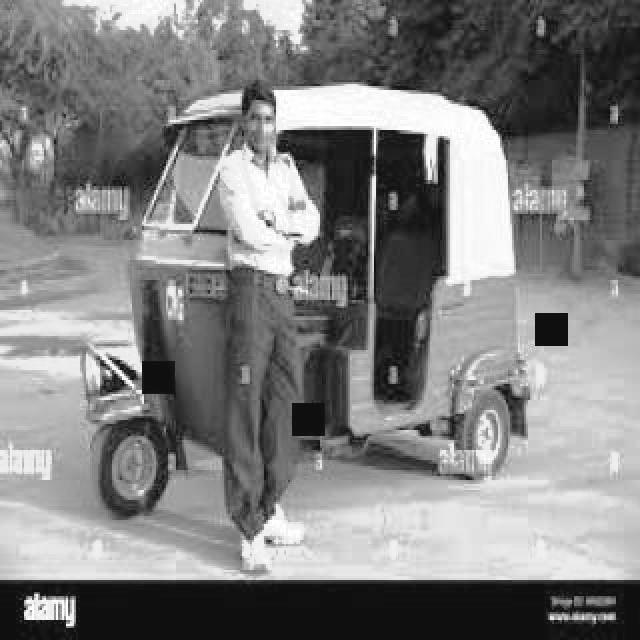Auto-Rickshaw: (84, 80, 570, 532)
